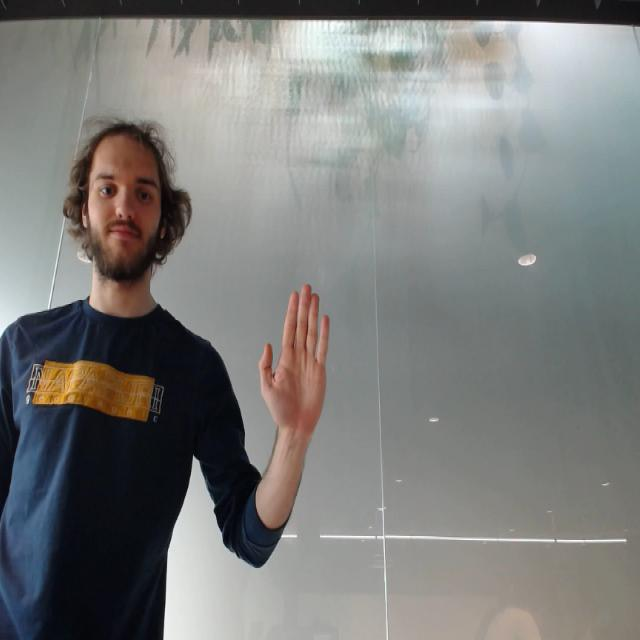backward: (256, 275, 334, 430)
